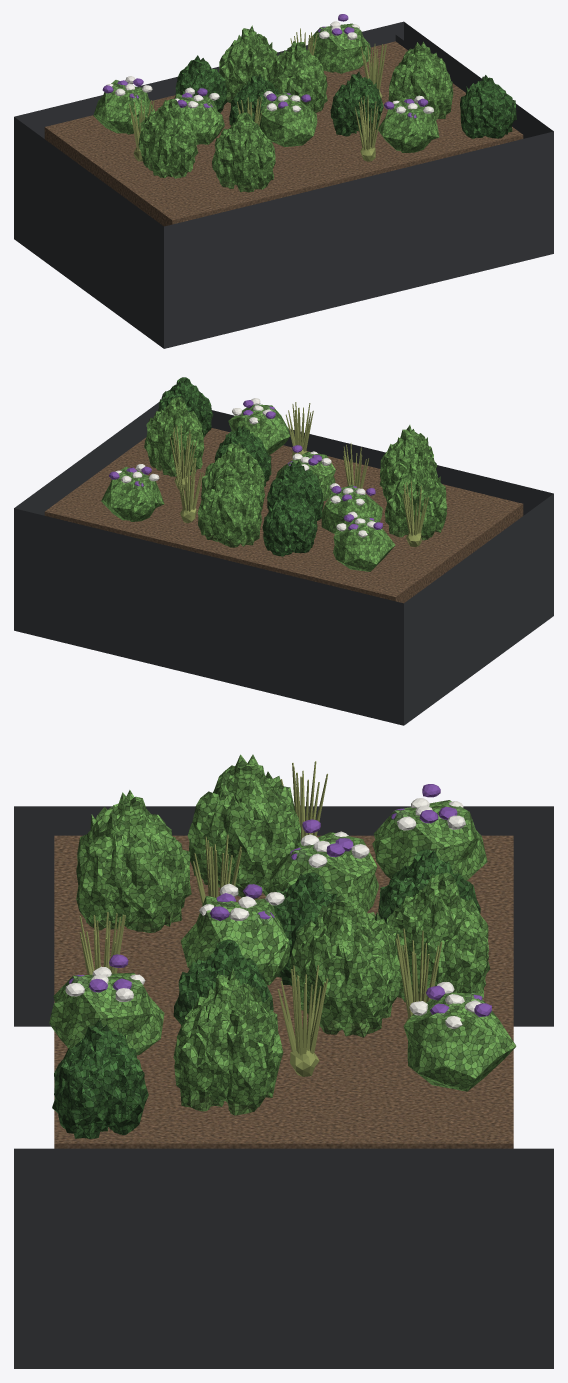
3 renders of one model, top to bottom at view 1: azimuth 30°, elevation 25°; view 2: azimuth 150°, elevation 25°; view 3: azimuth 270°, elevation 25°, orthographic. The views are drawn at different scales.
Parts seen in each view (by area): view 1: decorative.feature_planter (×2), zardinjera-0-0.5 (×5), zardinjera-2-0.5 (×5), zardinjera-3-0.5 (×4), zardinjera-1-0.5 (×3); view 2: decorative.feature_planter (×2), zardinjera-0-0.5 (×5), zardinjera-2-0.5 (×5), zardinjera-3-0.5 (×4), zardinjera-1-0.5 (×5); view 3: decorative.feature_planter (×2), zardinjera-0-0.5 (×5), zardinjera-2-0.5 (×10), zardinjera-3-0.5 (×4), zardinjera-1-0.5 (×5).
Boxes of the visible parts, box(x1,y1,x2,y2) form: decorative.feature_planter (×2): box(14, 21, 553, 348); zardinjera-0-0.5 (×5): box(138, 25, 453, 192); zardinjera-2-0.5 (×5): box(93, 23, 439, 152); zardinjera-3-0.5 (×4): box(175, 55, 516, 138); zardinjera-1-0.5 (×3): box(129, 44, 386, 161); decorative.feature_planter (×2): box(14, 402, 553, 725); zardinjera-0-0.5 (×5): box(144, 397, 447, 547); zardinjera-2-0.5 (×5): box(101, 404, 395, 571); zardinjera-3-0.5 (×4): box(158, 377, 323, 556); zardinjera-1-0.5 (×5): box(170, 402, 428, 547); decorative.feature_planter (×2): box(14, 806, 553, 1368); zardinjera-0-0.5 (×5): box(76, 754, 490, 1115); zardinjera-2-0.5 (×10): box(49, 798, 516, 1091); zardinjera-3-0.5 (×4): box(52, 849, 480, 1138); zardinjera-1-0.5 (×5): box(79, 761, 442, 1076).
Bounding box in the file's own units: 3 × 2 × 1.37.
7 materials, 3 textured.
